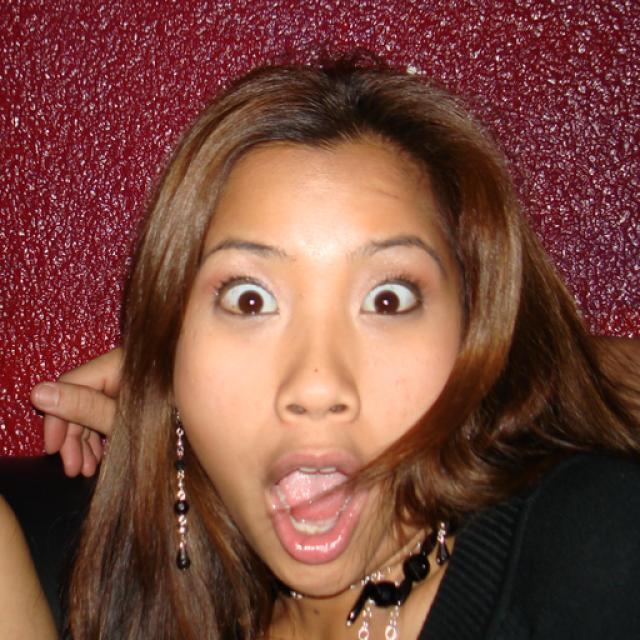surprise: (172, 119, 468, 599)
